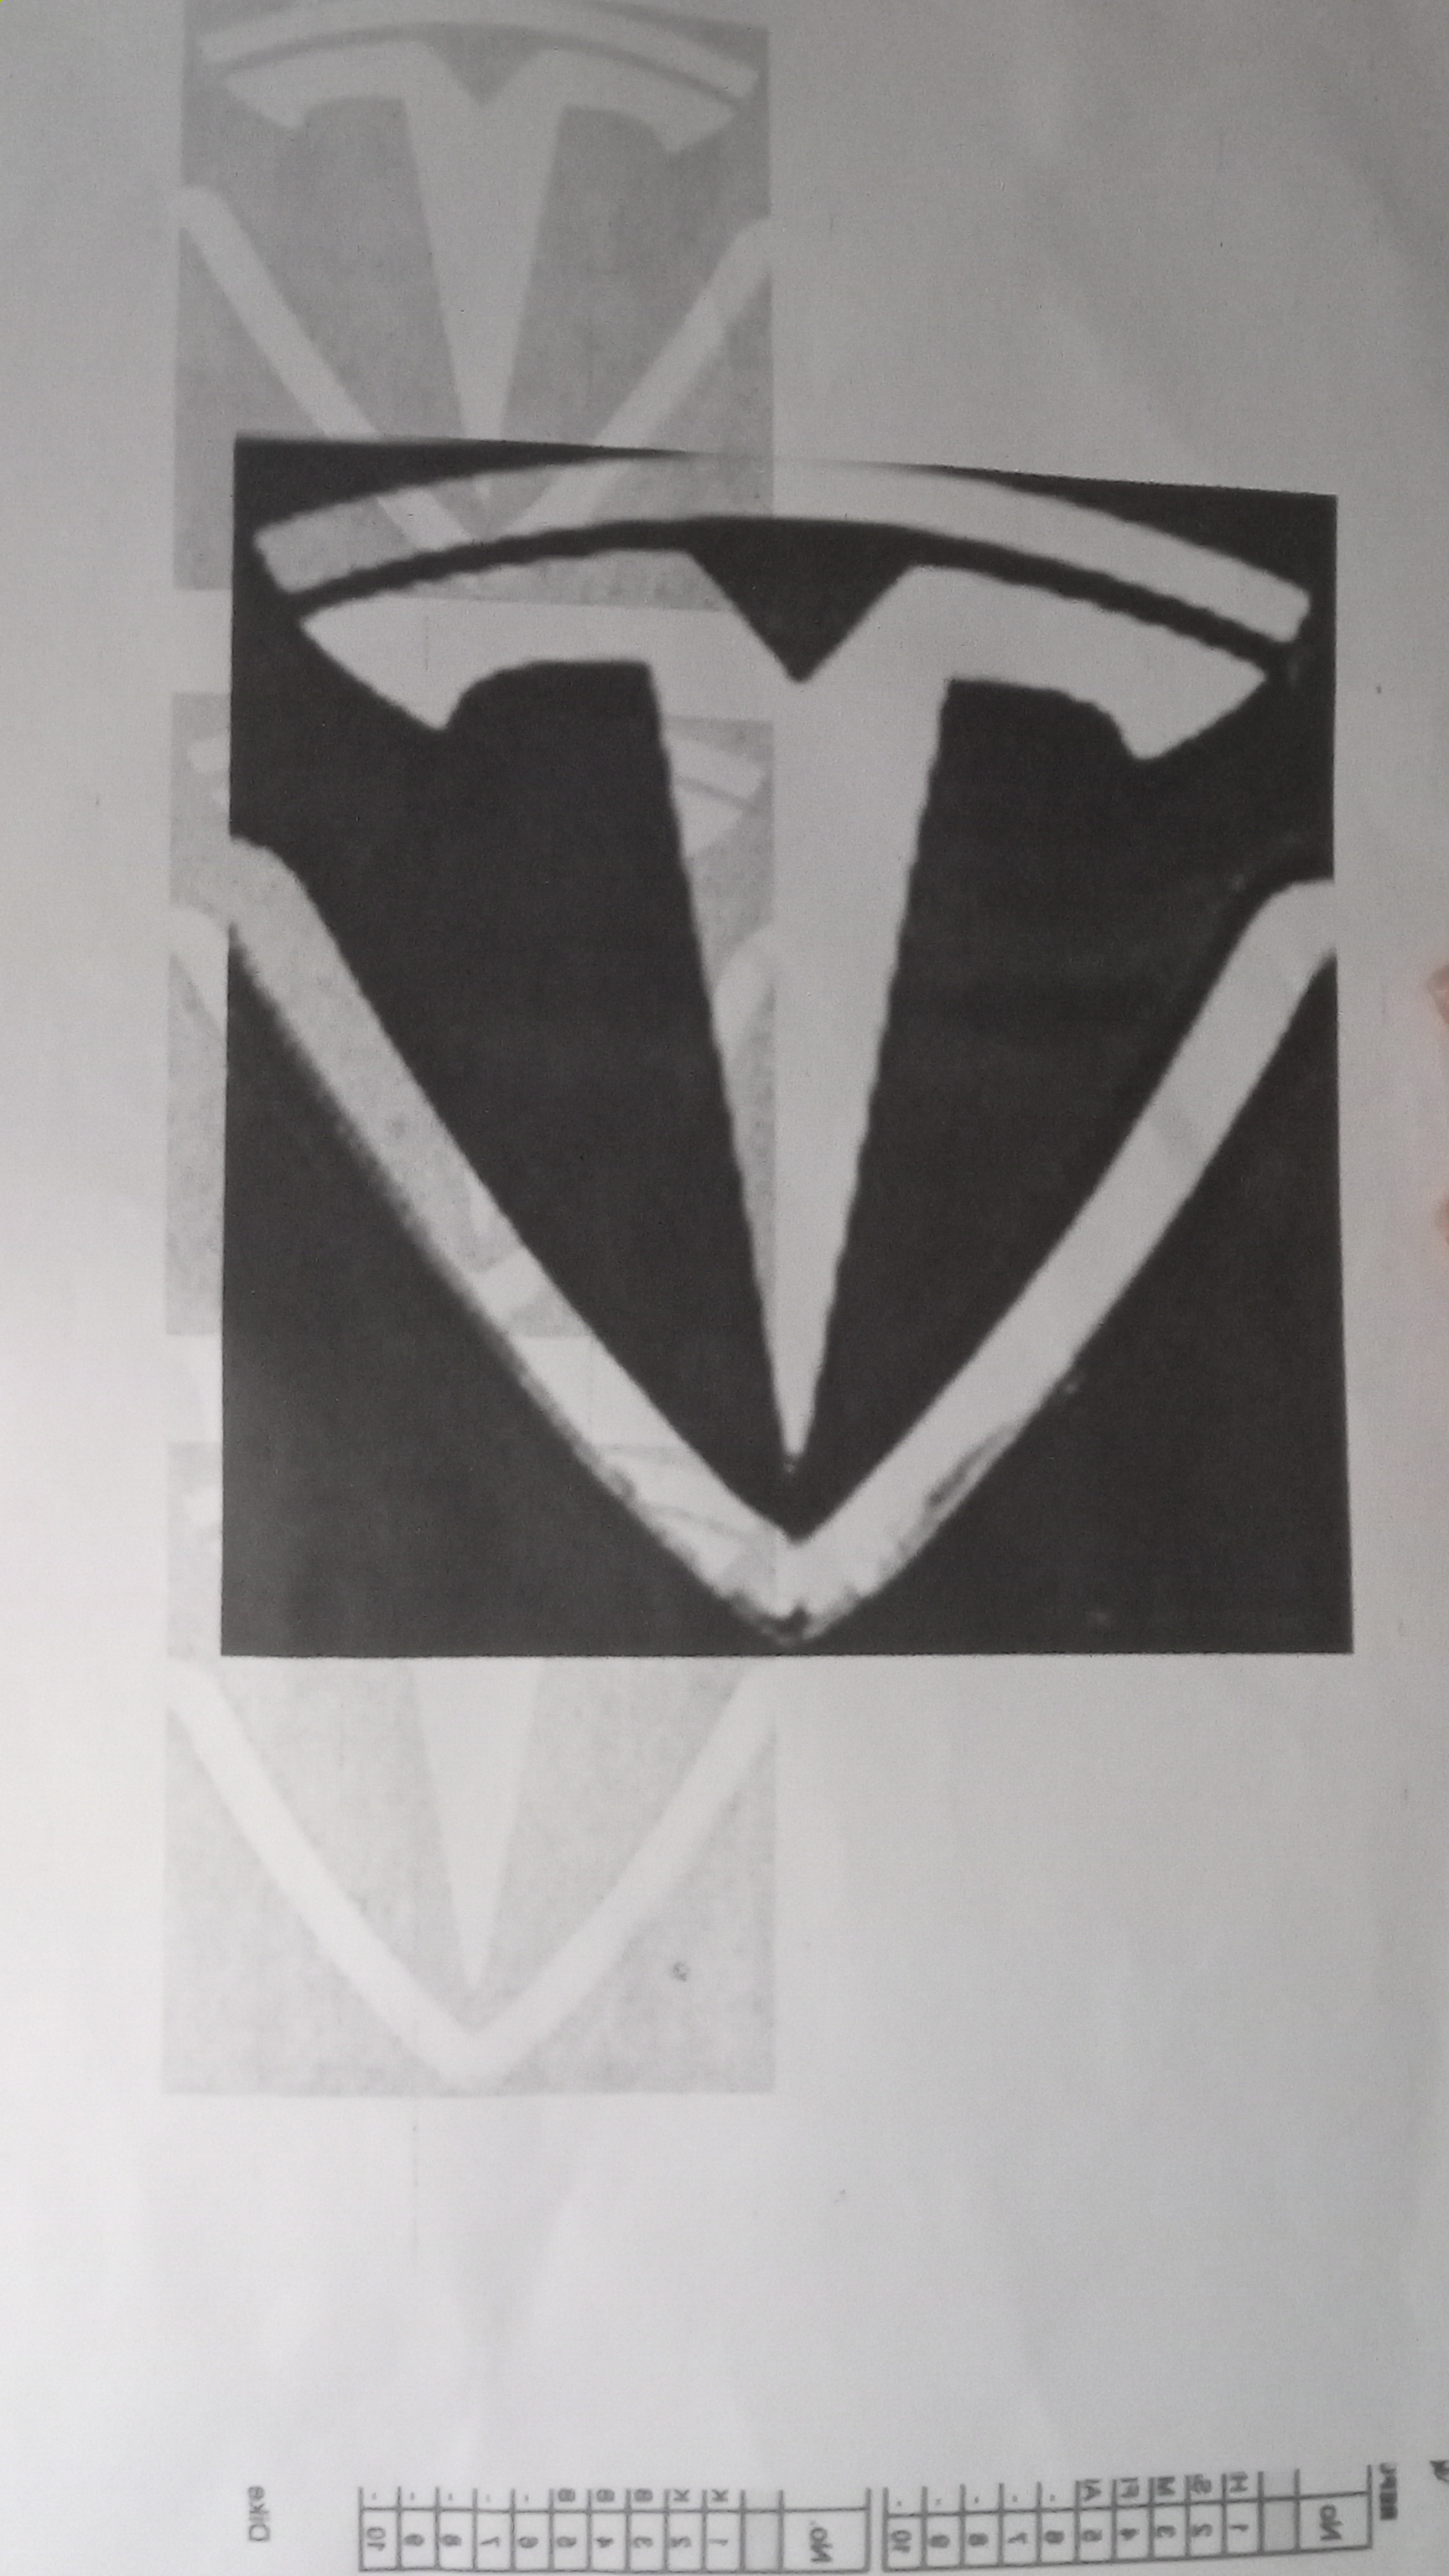Tesla: (225, 426, 1369, 1654)
